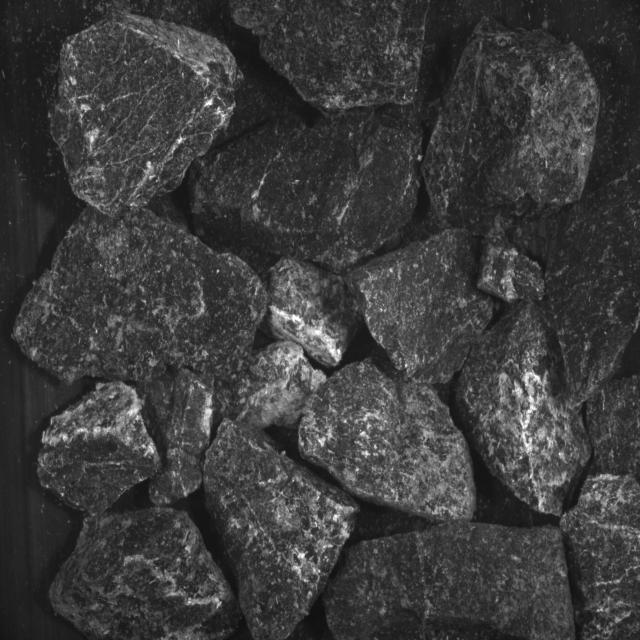Stones: (15, 208, 267, 382), (424, 18, 601, 235), (51, 14, 241, 216), (191, 112, 420, 275), (205, 420, 359, 640), (325, 523, 576, 640), (456, 303, 592, 517), (300, 360, 476, 521), (50, 509, 241, 640), (546, 167, 640, 408), (349, 229, 494, 384), (231, 1, 430, 112), (39, 384, 161, 515), (561, 476, 640, 640), (139, 370, 214, 507), (266, 259, 360, 368), (216, 341, 327, 430), (477, 240, 546, 303), (607, 575, 611, 580)
